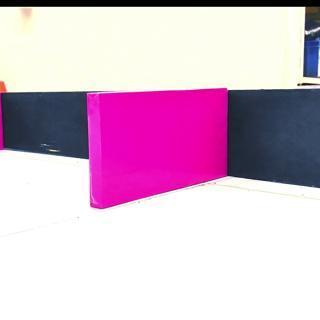xparking: (86, 92, 230, 184)
